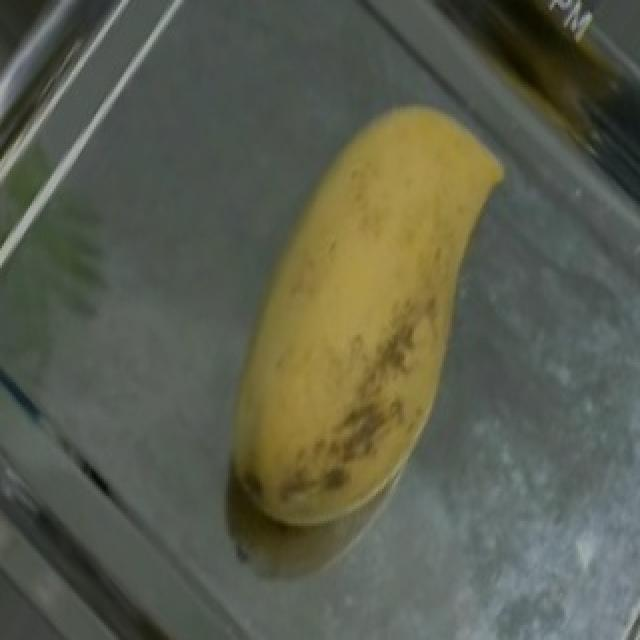fruit: (220, 44, 552, 427)
